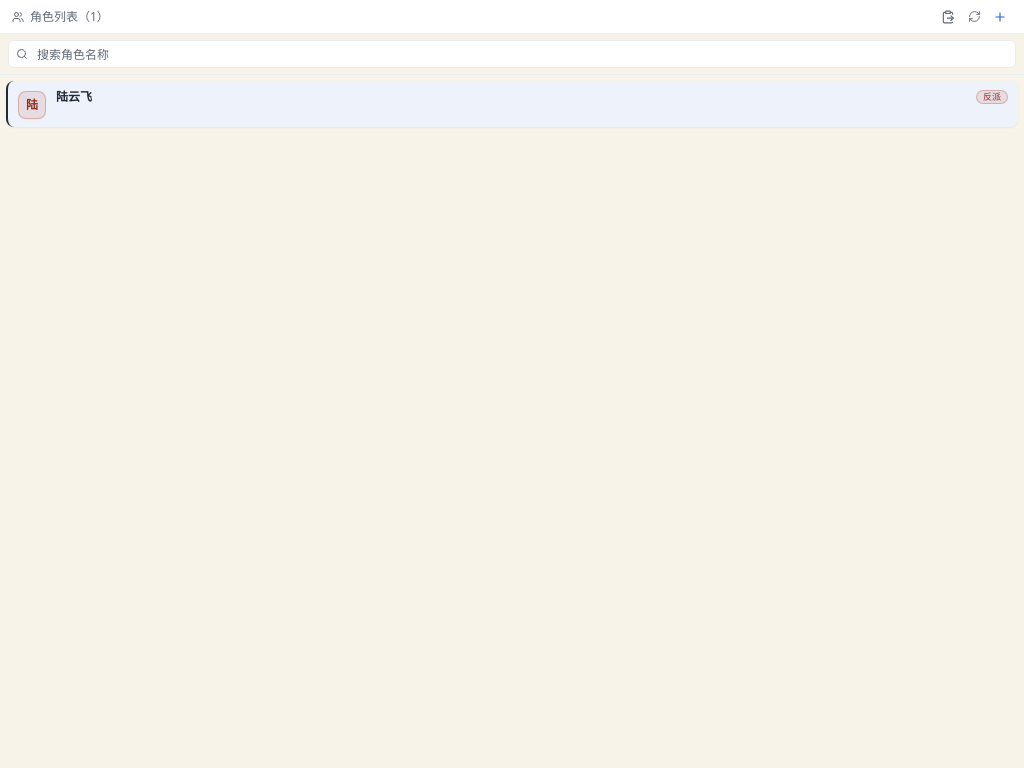
it: new character creation flow › refuses an empty name without creating a ghost character
The image size is (1024, 768).
Click the button named "新建角色". click: (1000, 16)
box: x1=988 y1=4 x2=1012 y2=28
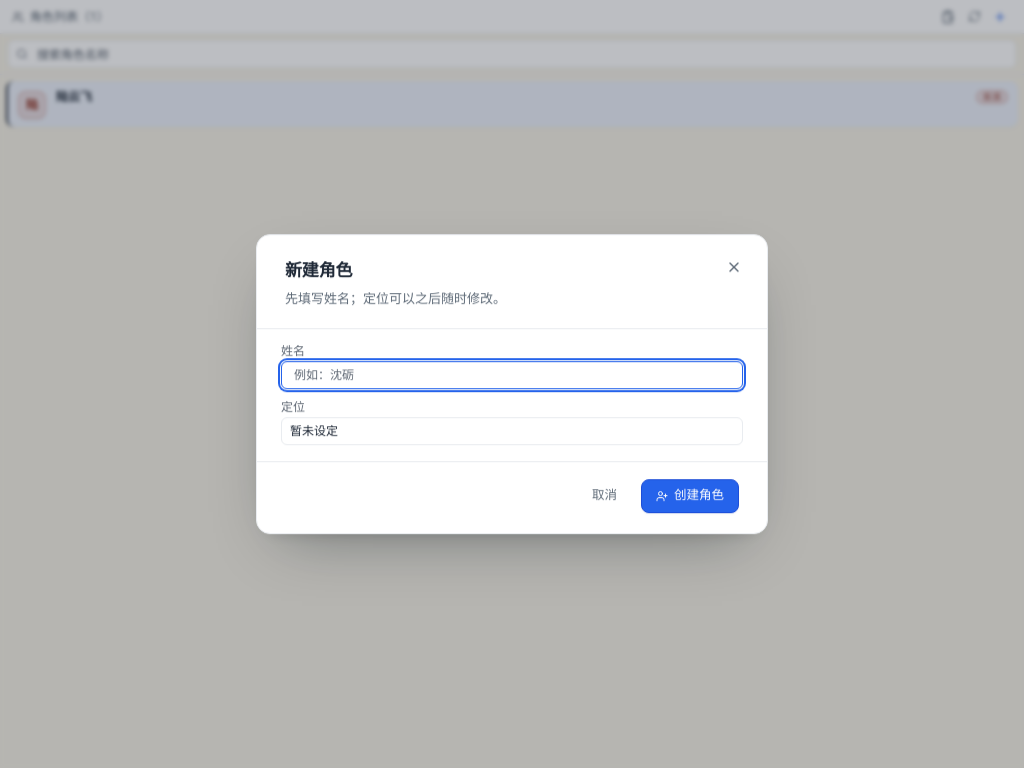
Click the button "创建角色". click: (690, 496)
box: x1=641 y1=479 x2=739 y2=513
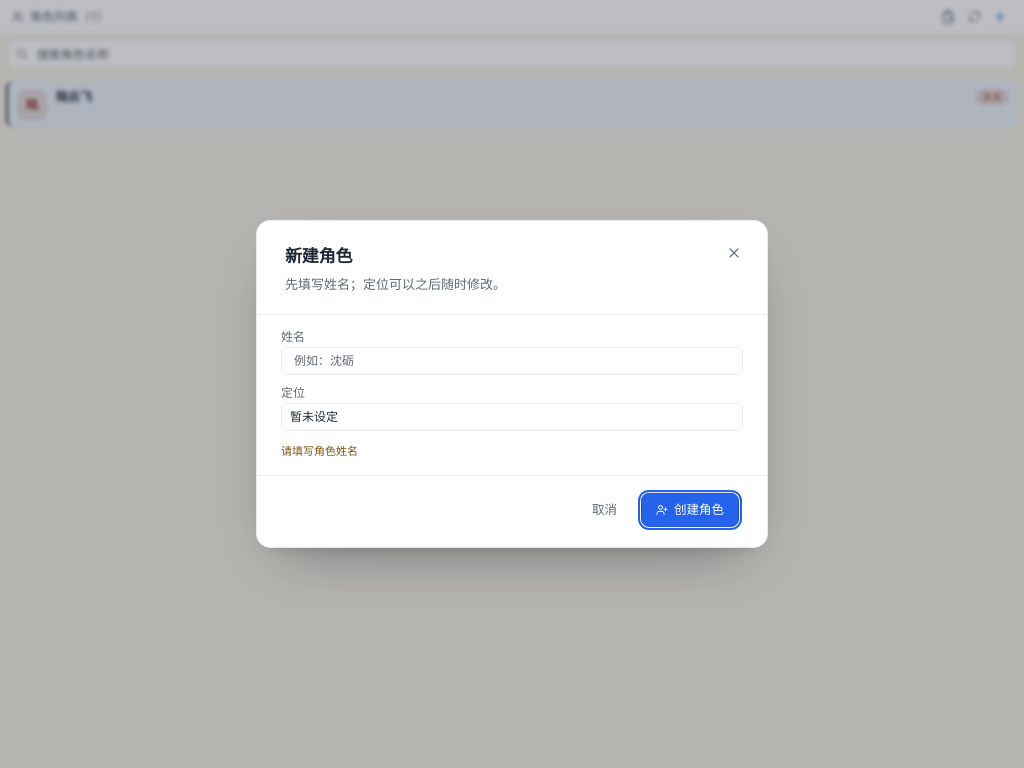
Expected: the text "陆云飞" is shown, x1=56 y1=89 x2=92 y2=105
Expected: the dialog with test id "character-create-dialog" shows "请填写角色姓名", x1=281 y1=443 x2=358 y2=458
